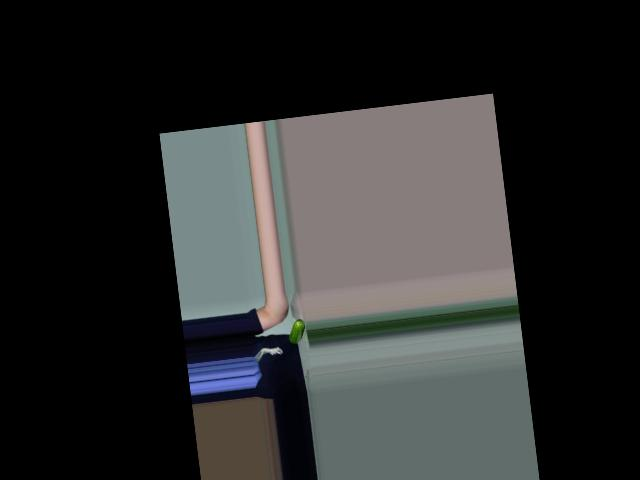cucumber: (287, 318, 307, 344)
